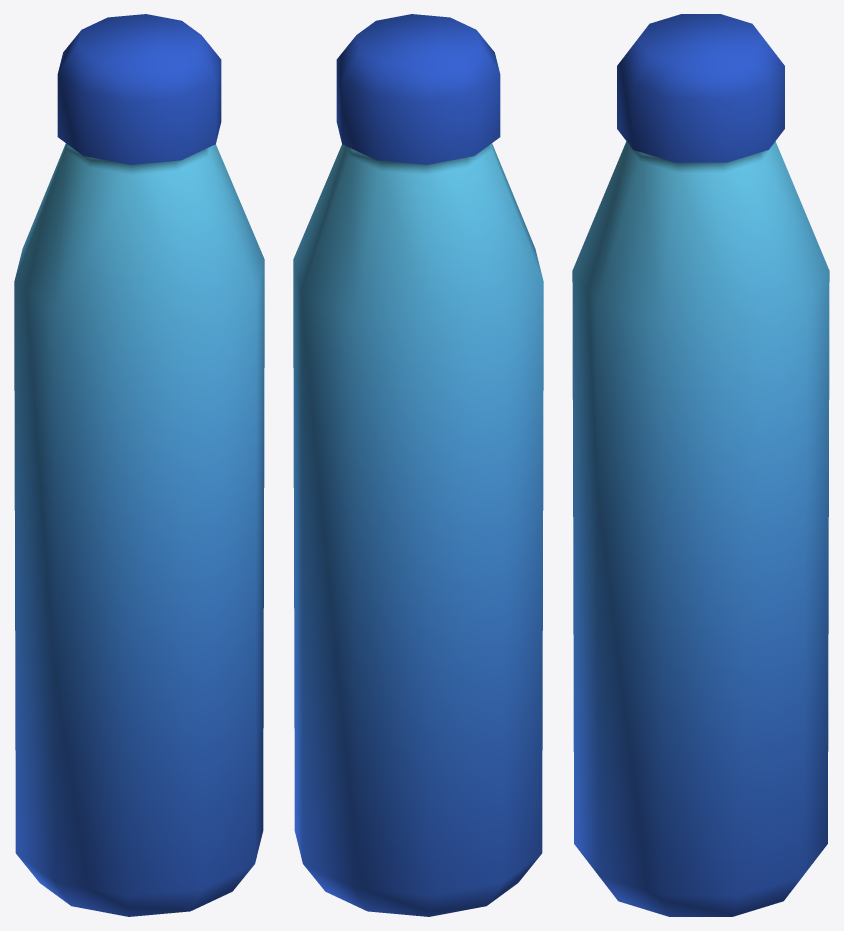
Rendered from bottle2_water.fbx.
The picture shows the model from 3 angles, left to right: view 1: azimuth 30°, elevation 25°; view 2: azimuth 150°, elevation 25°; view 3: azimuth 270°, elevation 25°; orthographic projection.
Parts seen in each view (by area): view 1: bottle2_water; view 2: bottle2_water; view 3: bottle2_water.
Boxes of the visible parts, bbox=[...] form: bottle2_water: bbox=[14, 14, 264, 916]; bottle2_water: bbox=[293, 14, 543, 916]; bottle2_water: bbox=[572, 14, 829, 916].
Size of the model in its own units: 49.11 by 185 by 51.63.
